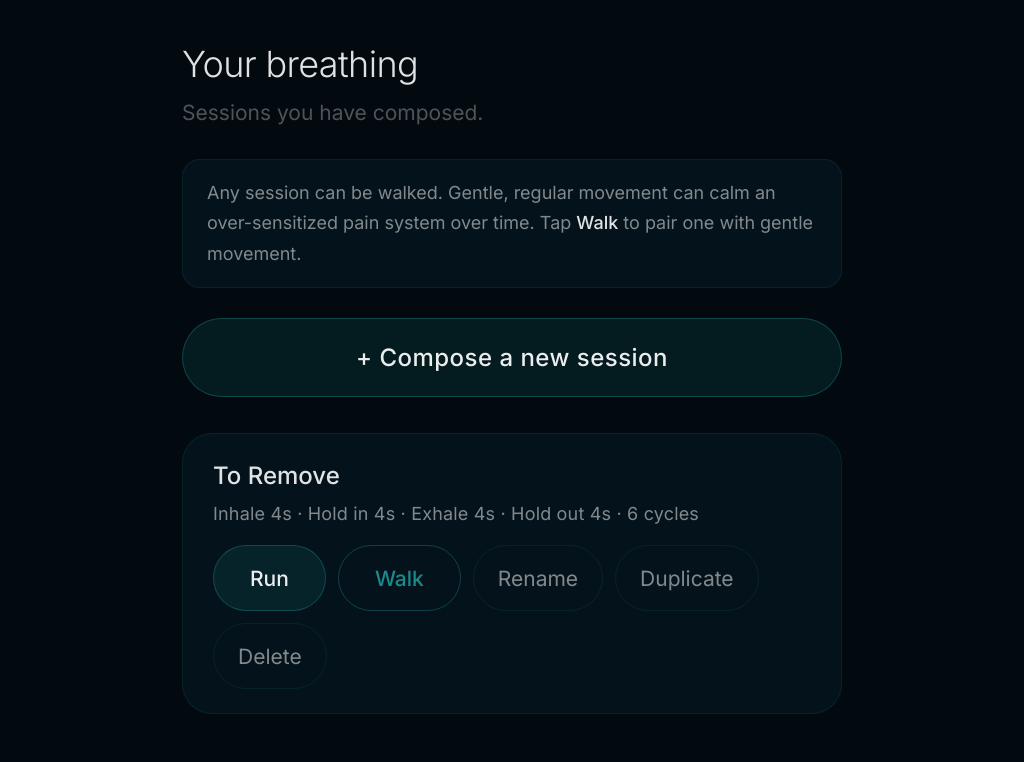
CustomLibraryScreen — delete with pre-confirm summary › confirming the summary deletes the session
The width and height of the screenshot is (1024, 762).
(page scrolled)
Click the button with aria-label "delete to remove".
click(270, 656)  # box [213, 623, 327, 689]
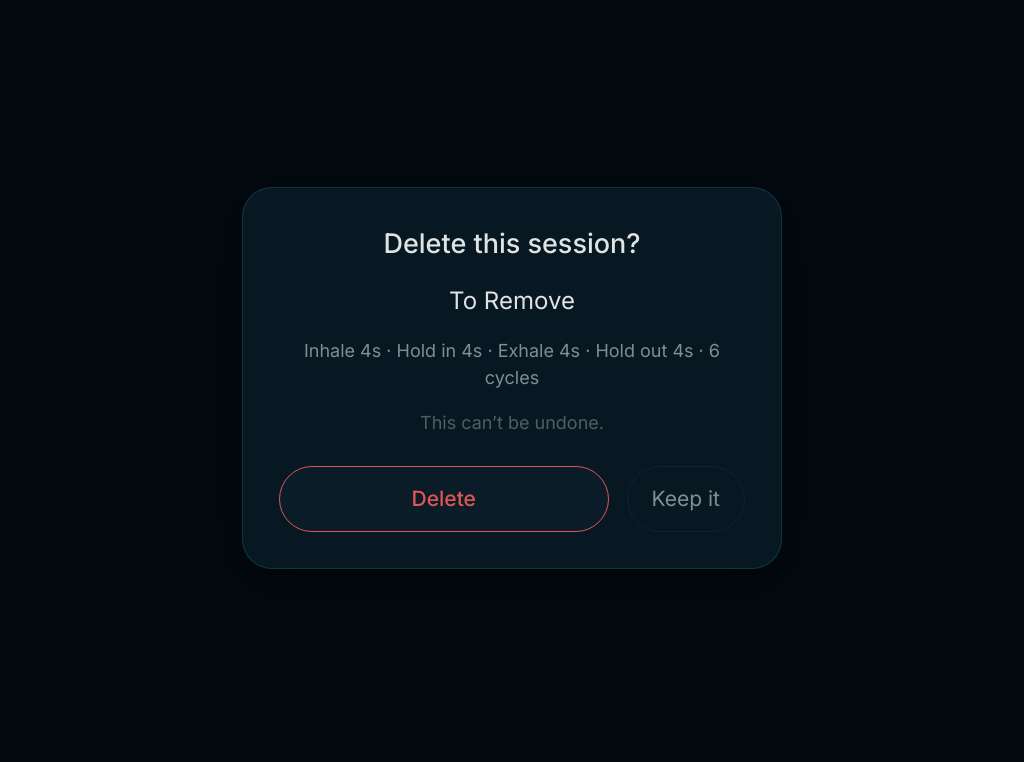
Click the button "Delete".
click(444, 499)  # box [279, 466, 608, 532]
(page scrolled)
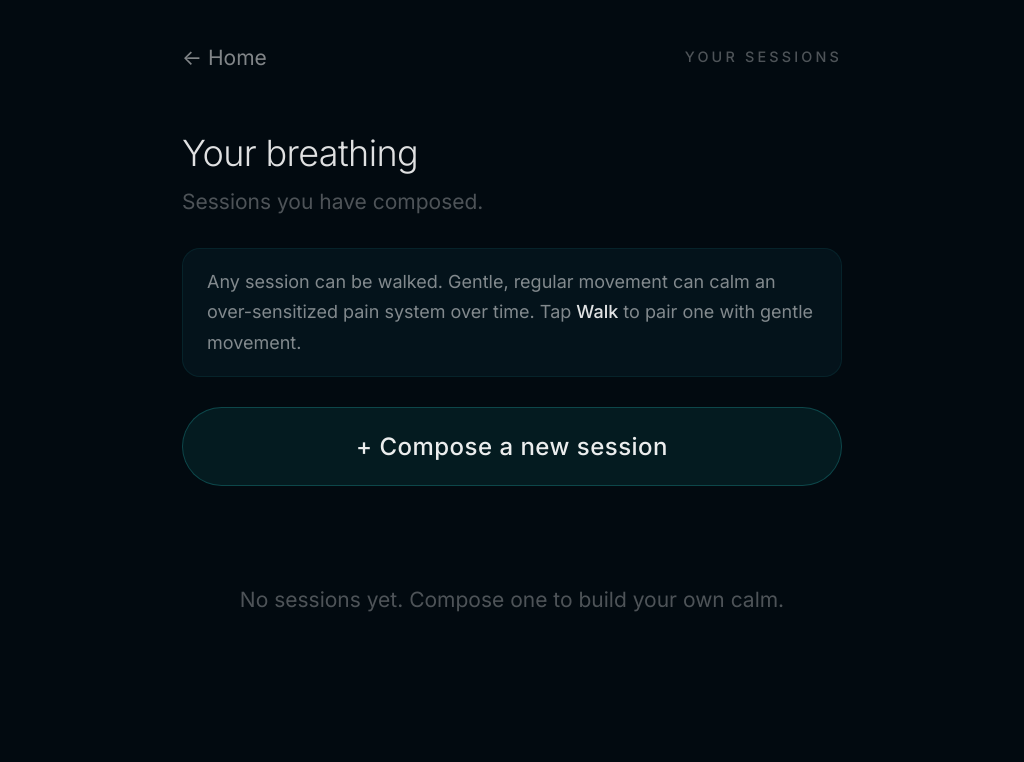
Check: the text "No sessions yet. Compose one to build your own calm." is shown, box [240, 587, 784, 612]
